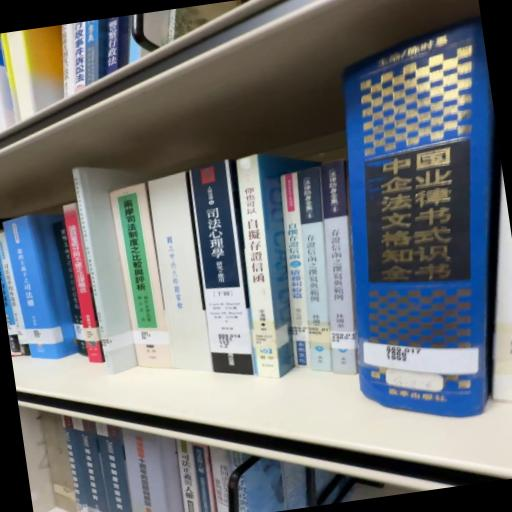backward: (142, 170, 215, 379)
book: (187, 161, 262, 384)
